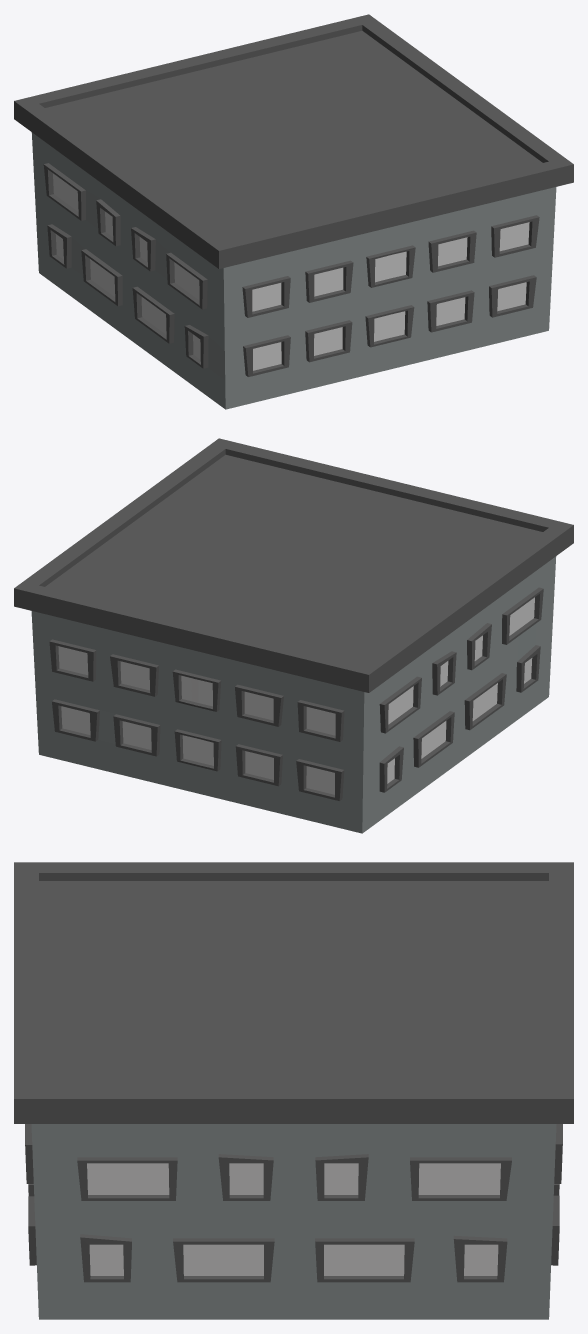
The model's file is 2X2build.fbx.
3 views of the same model, one above another, from view 1: azimuth 30°, elevation 25°; view 2: azimuth 150°, elevation 25°; view 3: azimuth 270°, elevation 25° (orthographic). The views are drawn at different scales.
Visible parts, largest first — view 1: Cube; view 2: Cube; view 3: Cube.
Boxes of the visible parts, x1,y1,x2,y2 form: Cube: (14, 14, 573, 409); Cube: (14, 438, 573, 833); Cube: (14, 862, 573, 1319).
Size of the model in its own units: 220 by 100 by 220.
